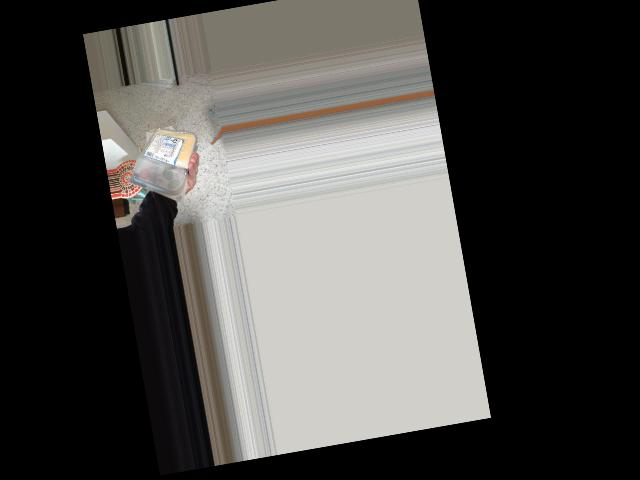cheese: (120, 118, 196, 198)
